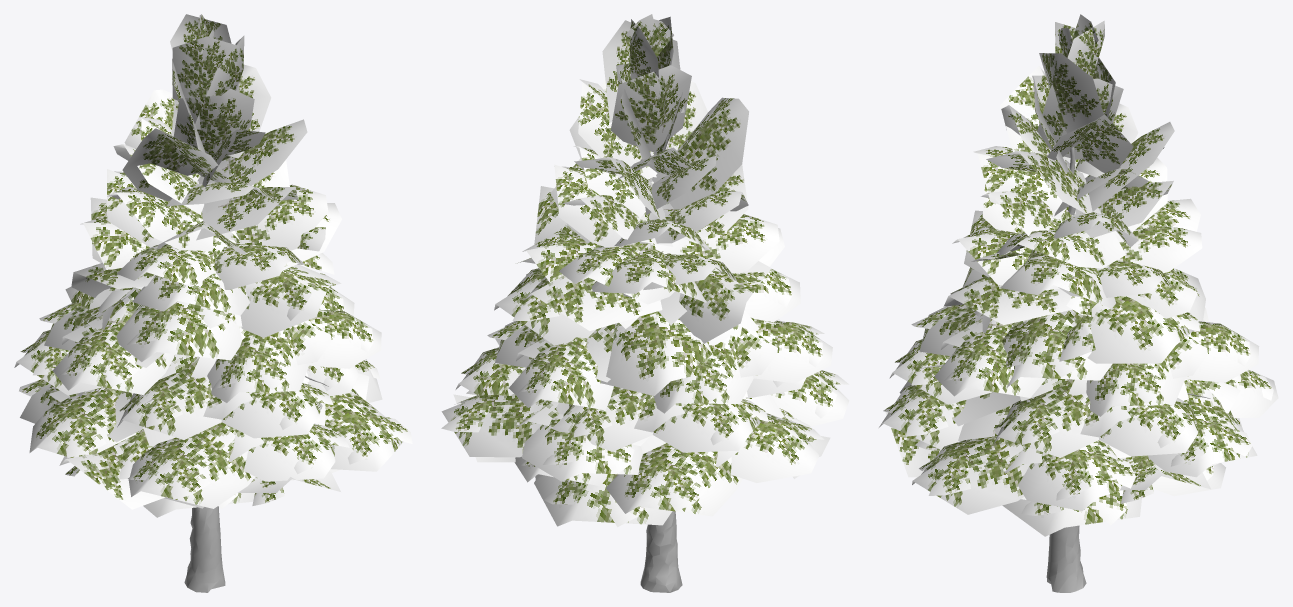
The model's file is Linden_Tree.fbx.
3 views of the same model, side by side, from view 1: azimuth 30°, elevation 25°; view 2: azimuth 150°, elevation 25°; view 3: azimuth 270°, elevation 25° (orthographic). The views are drawn at different scales.
Visible parts, largest first — view 1: Leaves_Lower, Leaves_Upper, Trunk; view 2: Leaves_Lower, Leaves_Upper, Trunk; view 3: Leaves_Lower, Leaves_Upper, Trunk.
Part boxes in pixels (x1,y1,x2,y2): Leaves_Lower: (14, 14, 412, 517); Leaves_Upper: (18, 15, 411, 515); Trunk: (184, 506, 225, 592); Leaves_Lower: (441, 14, 849, 527); Leaves_Upper: (443, 15, 847, 524); Trunk: (640, 159, 682, 592); Leaves_Lower: (879, 14, 1278, 536); Leaves_Upper: (881, 17, 1276, 534); Trunk: (1046, 147, 1086, 592).
Bounding box in the file's own units: 5.65 × 8.99 × 5.68.
